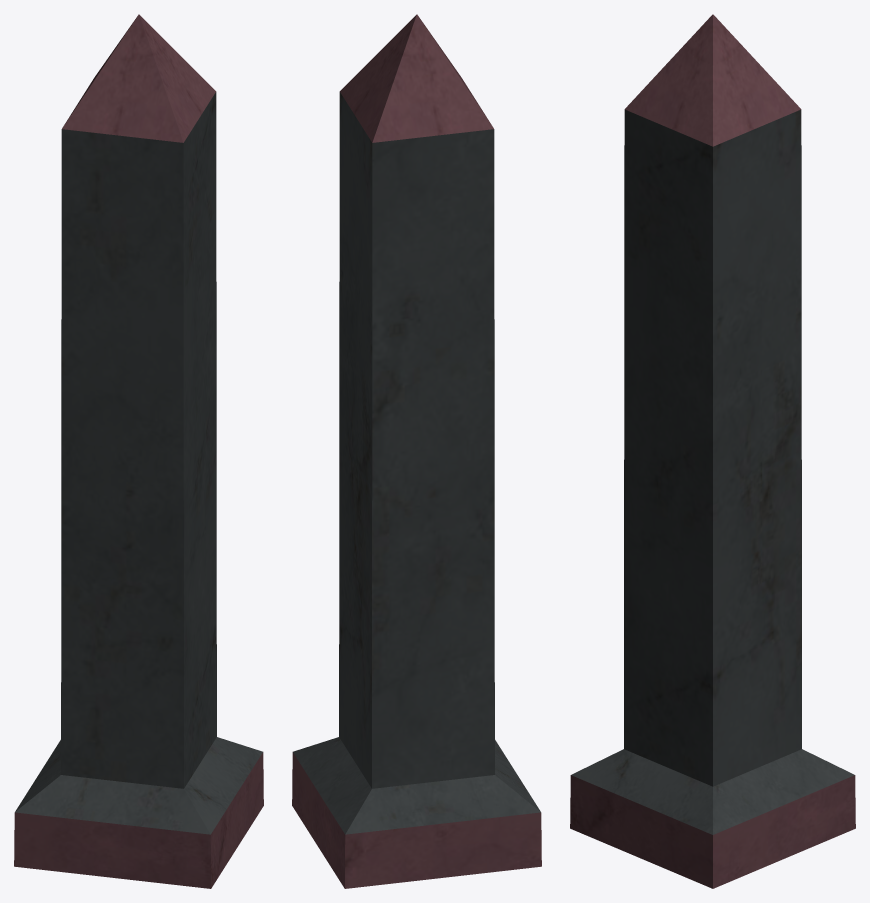
File: obeliskRed.fbx
3 views of the same model, side by side, from view 1: azimuth 30°, elevation 25°; view 2: azimuth 150°, elevation 25°; view 3: azimuth 270°, elevation 25° (orthographic).
Visible parts, largest first — view 1: obeliskRed; view 2: obeliskRed; view 3: obeliskRed.
Part boxes in pixels (box(x1,y1,x2,y2)): obeliskRed: box(14, 14, 263, 888); obeliskRed: box(292, 14, 541, 888); obeliskRed: box(570, 14, 855, 888).
Size of the model in its own units: 2.28 by 7.18 by 2.28.
1 material, 1 textured.
